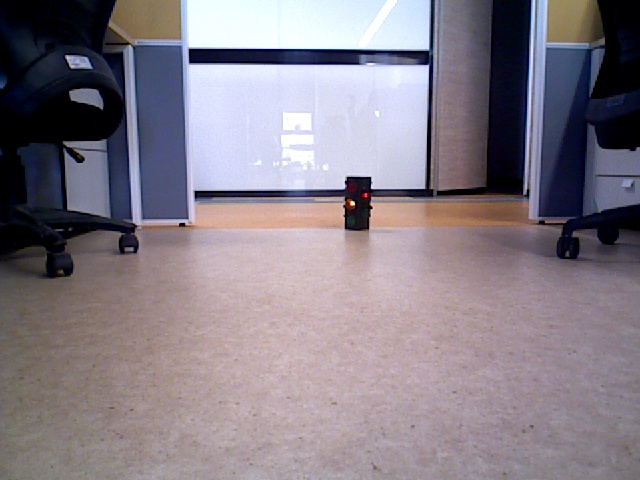yellow: (344, 177, 368, 225)
